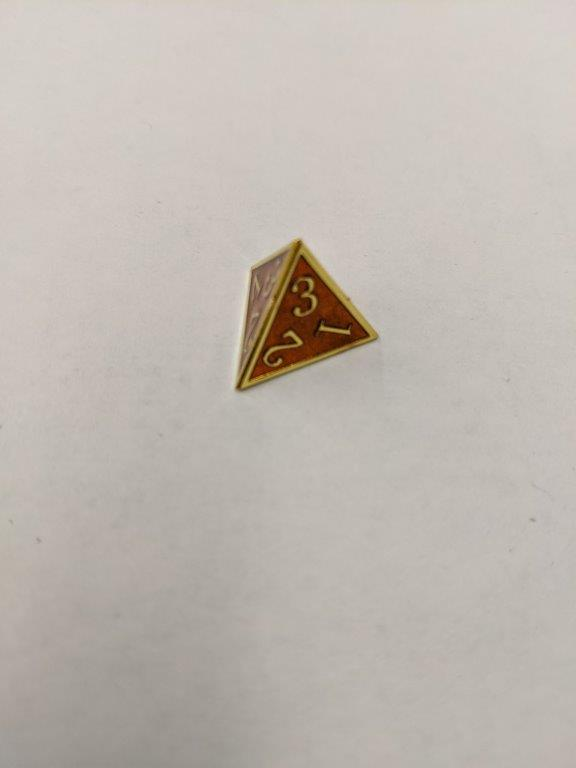d4-3: (232, 234, 384, 395)
